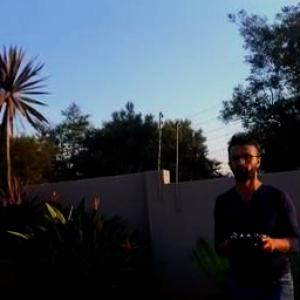follow: (207, 130, 300, 299)
